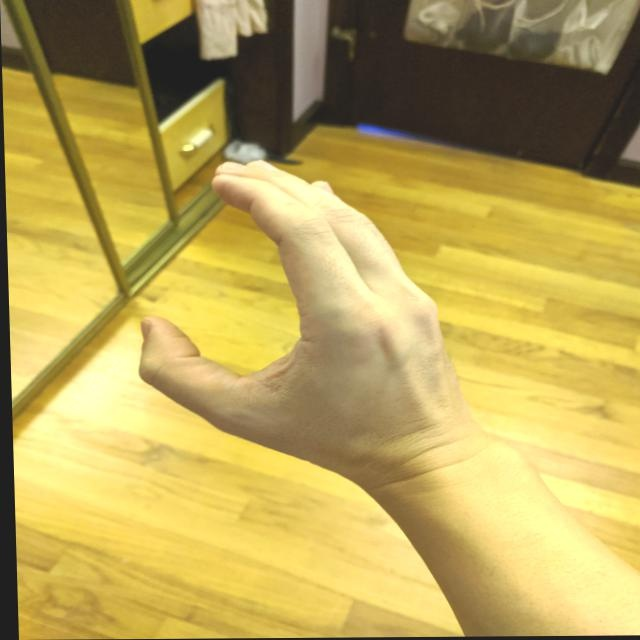C: (123, 153, 494, 487)
